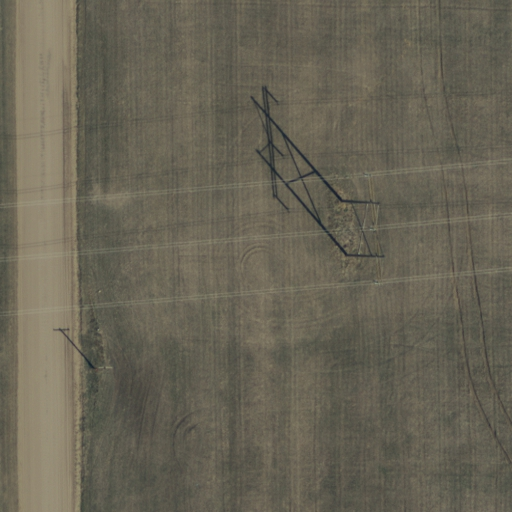DT: (86, 356, 115, 377)
TT: (337, 163, 388, 293)
